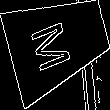M_E: (33, 14, 83, 73)
